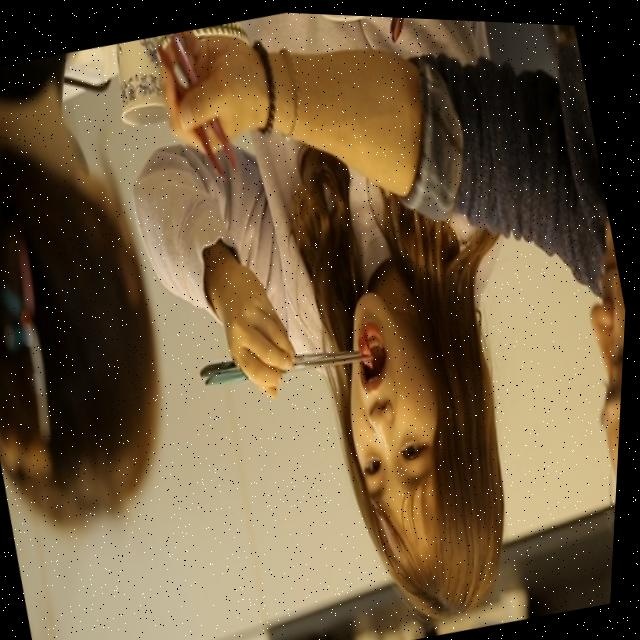eating-person: (76, 4, 623, 640)
